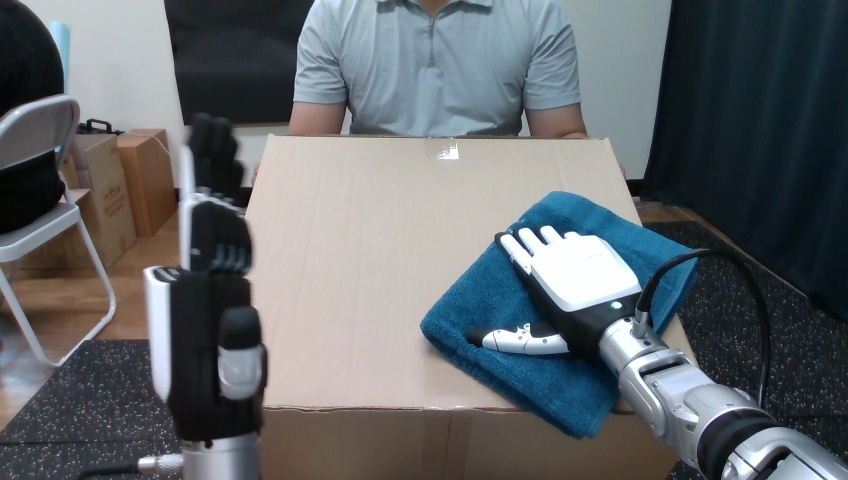left robot hand: (605, 307, 847, 478)
